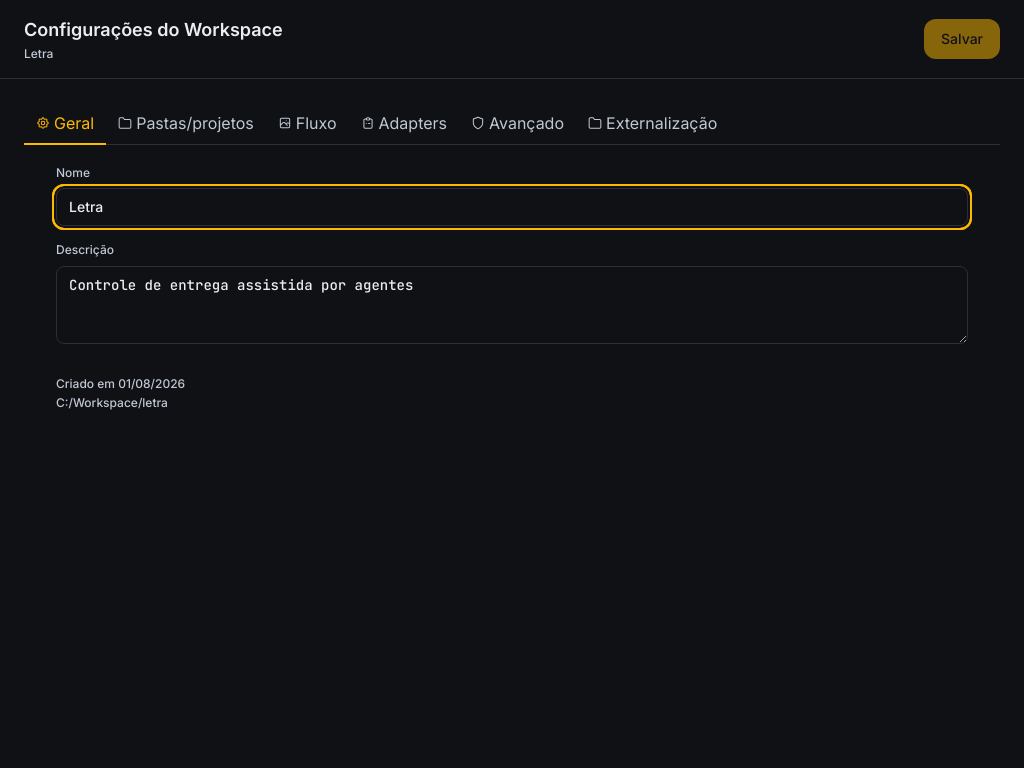
Test case: WorkspaceSettings › shows data directory, link status, repair action, and collapsed location adapters
Click the tab "Pastas/projetos".
click(186, 124)  # box [106,103,266,145]
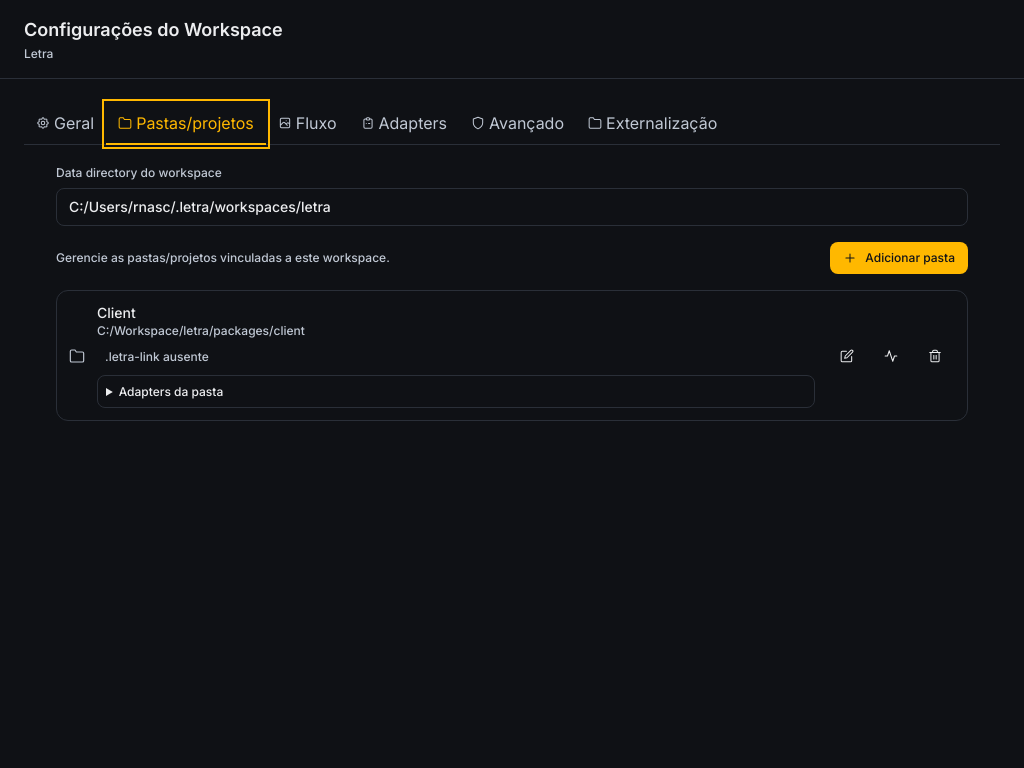
Check: the field labelled "Data directory do workspace" holds "C:/Users/rnasc/.letra/workspaces/letra", box [56,188,968,226]
Check: the text ".letra-link ausente" is shown, box [97,347,217,366]
Check: the heading "Adapters da pasta" is shown, box [119,384,223,399]
Click the button named "Reparar vínculo da pasta Client".
click(891, 356)  # box [871,340,911,372]
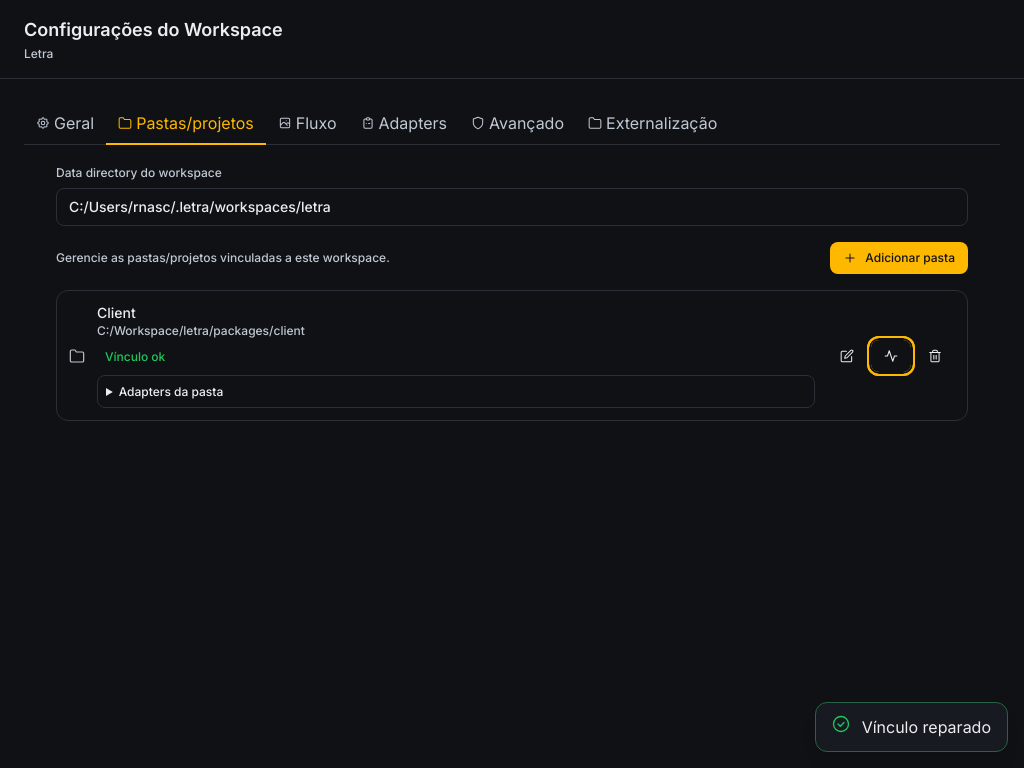
Check: the text "Vínculo ok" is shown, box [105,349,165,364]
